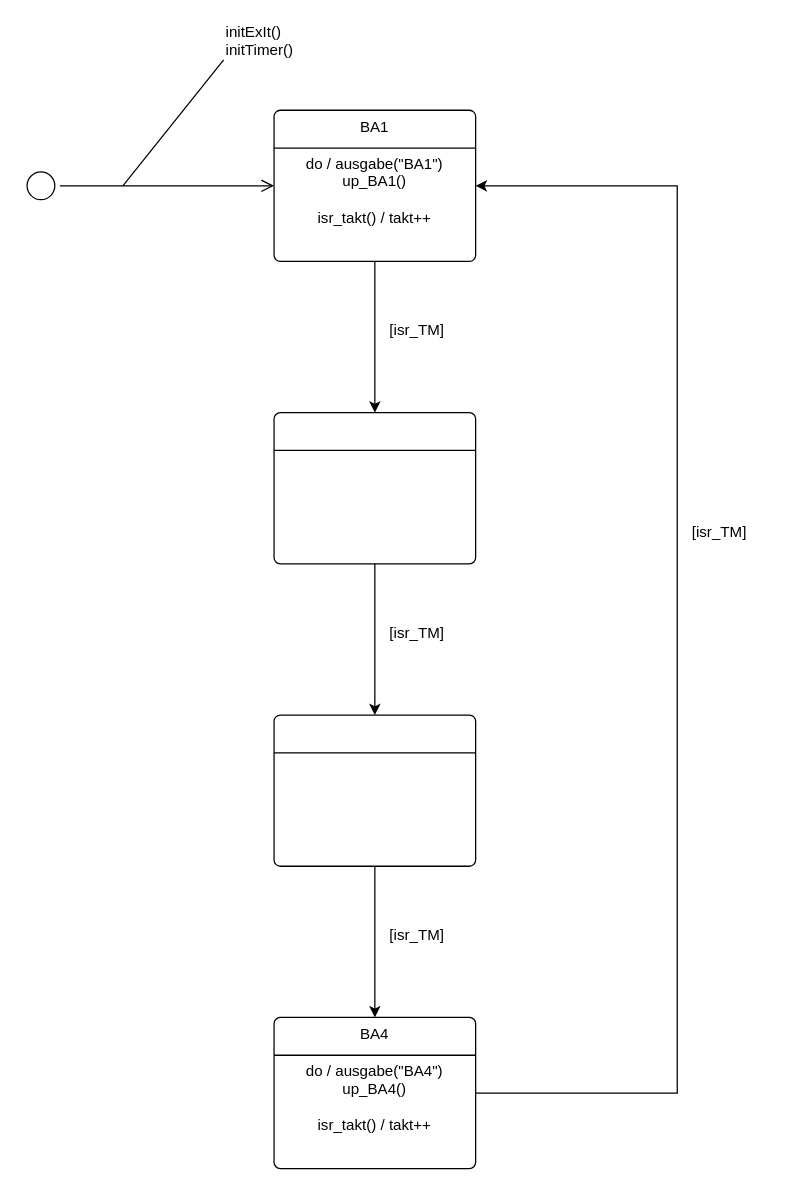
This 788x1191 diagram has some shape labels left out. Each missing label, with the centre of its shape:
BA2 do / ausgabe("BA2") up_BA2() isr_takt() / takt++: the point at 374,487
BA3 do / ausgabe("BA3") up_BA3() isr_takt() / takt++: the point at 374,790
